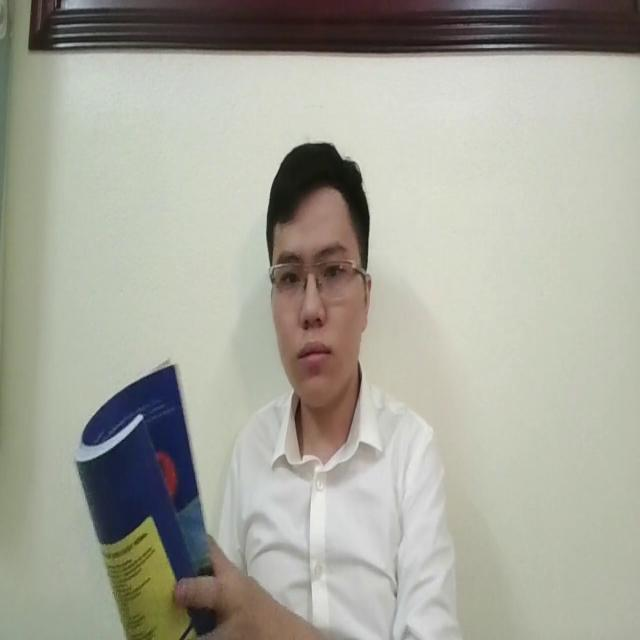book: (73, 351, 209, 640)
student: (203, 130, 456, 640)
